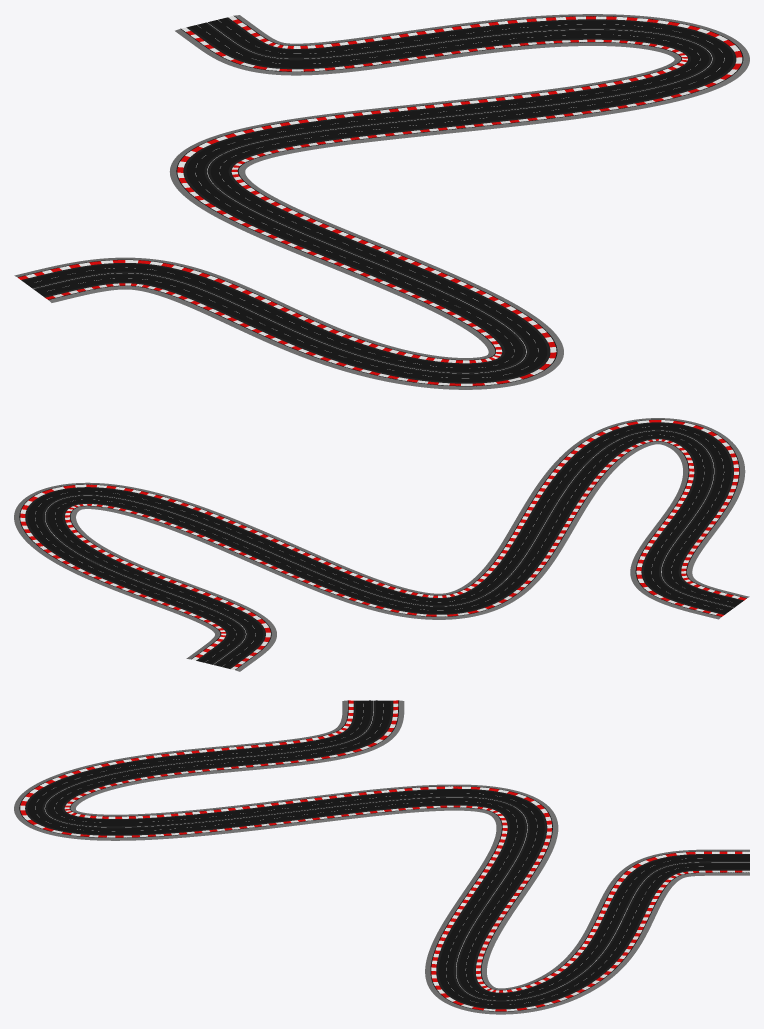
Rendered from S0.1c1h0-1-chikA.glb.
The picture shows the model from 3 angles, top to bottom: view 1: azimuth 30°, elevation 25°; view 2: azimuth 150°, elevation 25°; view 3: azimuth 270°, elevation 25°; orthographic projection. The views are drawn at different scales.
Visible parts, largest first — view 1: Grid.001; view 2: Grid.001; view 3: Grid.001.
Part boxes in pixels (x1,y1,x2,y2): Grid.001: (14,14,749,389); Grid.001: (14,418,749,671); Grid.001: (14,700,749,1014).
Size of the model in its own units: 300 by 0.31 by 297.
